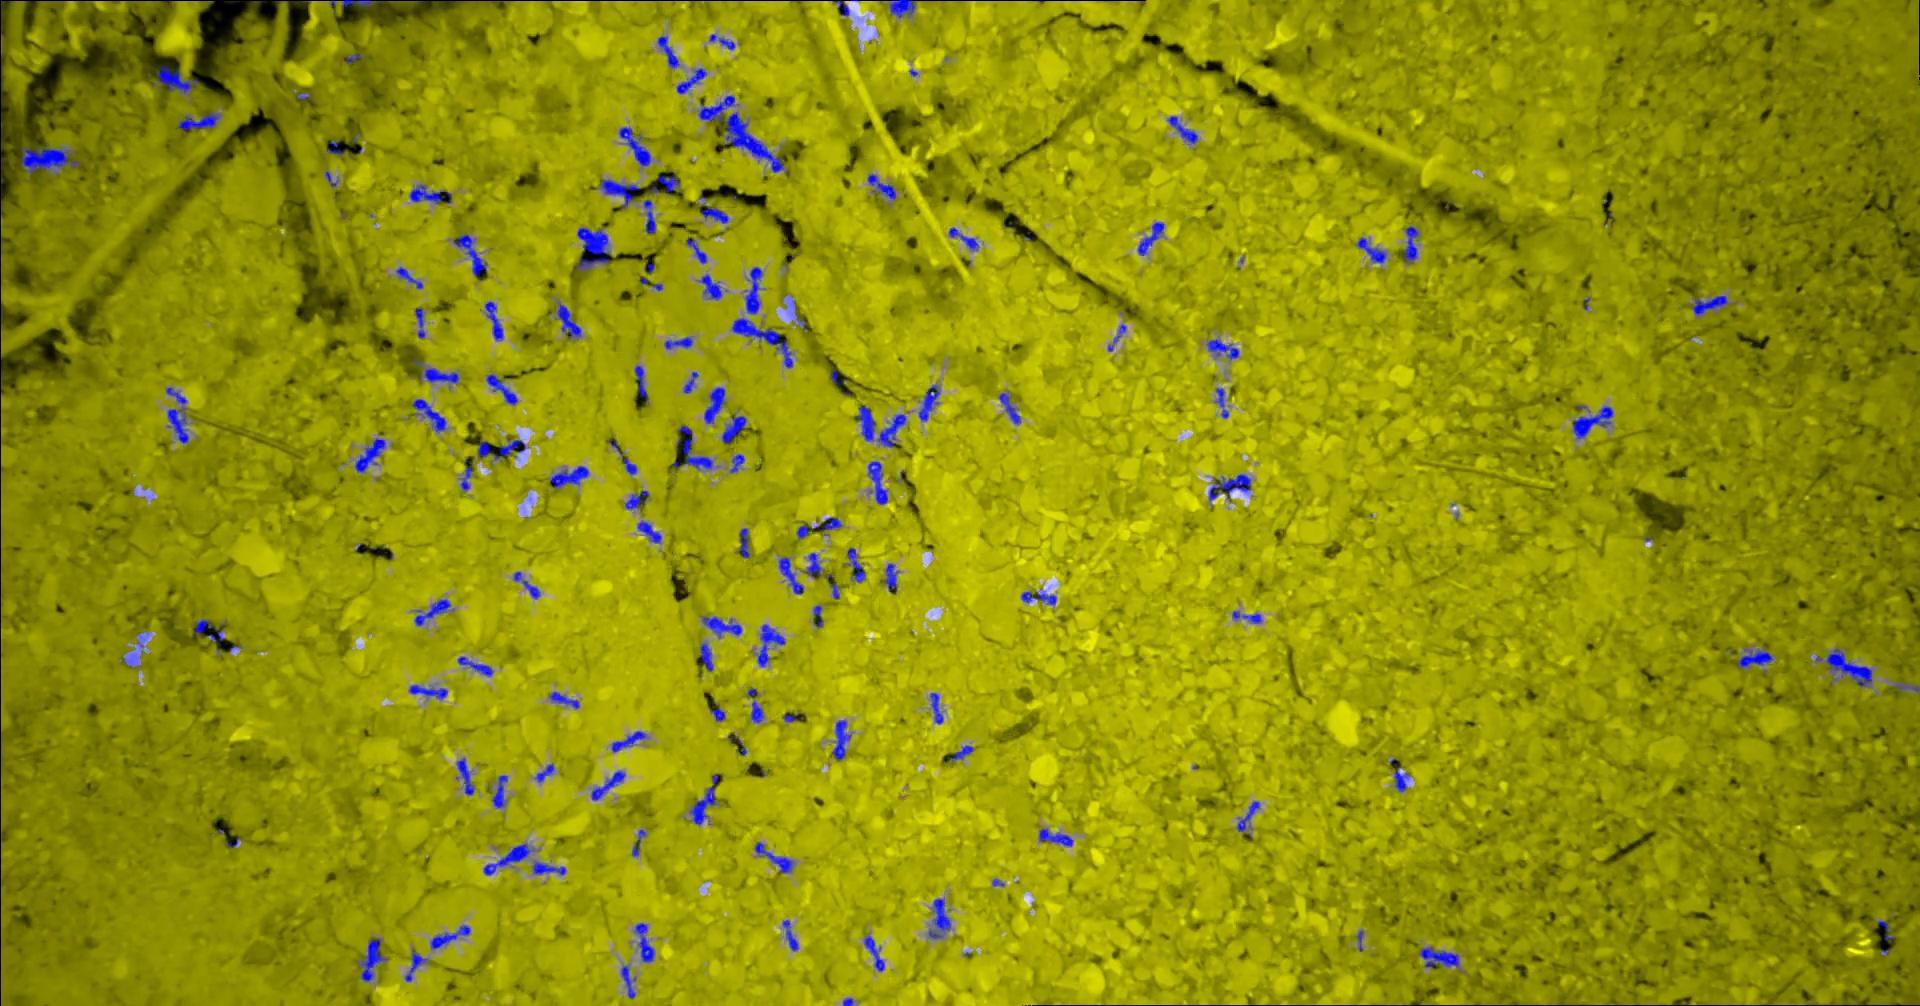ant: (731, 318, 792, 367), (857, 405, 905, 447), (1825, 648, 1870, 686), (672, 426, 712, 467), (483, 843, 533, 875), (20, 147, 79, 174), (452, 232, 486, 276), (690, 774, 717, 826), (577, 227, 610, 271), (1572, 406, 1611, 438), (165, 387, 188, 442), (155, 65, 199, 93), (599, 178, 640, 208), (618, 127, 650, 165), (1208, 473, 1250, 500), (757, 624, 785, 666), (754, 842, 792, 873), (361, 937, 386, 981), (411, 398, 444, 431), (354, 438, 385, 473), (590, 770, 625, 800), (608, 438, 636, 474), (477, 438, 524, 459), (486, 373, 517, 404), (414, 600, 450, 625), (430, 925, 470, 948), (1137, 222, 1163, 255), (867, 461, 888, 504), (556, 304, 582, 338), (744, 265, 762, 314), (778, 558, 803, 593), (1167, 116, 1197, 144), (549, 465, 588, 486), (702, 616, 742, 638), (928, 898, 950, 937), (1418, 946, 1459, 967), (830, 720, 851, 760), (634, 922, 654, 962), (177, 111, 218, 130), (409, 184, 451, 203), (484, 301, 503, 340), (918, 384, 938, 420), (703, 386, 724, 423), (867, 173, 895, 199), (676, 69, 706, 93), (657, 36, 679, 67), (404, 949, 427, 981), (863, 935, 884, 970), (1356, 238, 1385, 262), (457, 655, 491, 676), (611, 730, 645, 751), (1206, 338, 1238, 359), (998, 392, 1020, 424), (1691, 295, 1727, 314), (513, 572, 538, 598), (721, 415, 745, 443), (1389, 758, 1410, 791), (949, 227, 978, 250), (1236, 801, 1258, 831), (456, 757, 474, 794), (418, 367, 458, 382), (395, 265, 422, 288), (1037, 828, 1072, 846), (847, 547, 865, 580), (409, 683, 447, 699), (1021, 588, 1055, 605), (1737, 650, 1771, 667), (1403, 225, 1418, 262), (206, 622, 225, 652), (698, 274, 721, 298), (637, 520, 662, 542), (686, 238, 706, 263), (634, 365, 648, 401), (342, 0, 408, 8), (549, 691, 579, 708), (620, 965, 635, 998), (491, 775, 507, 807), (811, 517, 841, 533), (943, 746, 973, 762), (657, 173, 679, 193), (782, 920, 797, 950), (623, 490, 648, 509), (701, 207, 728, 224), (889, 0, 914, 17), (643, 199, 655, 232), (805, 553, 822, 578), (532, 861, 565, 874), (698, 641, 712, 671), (883, 563, 897, 591), (709, 34, 734, 50), (1215, 387, 1228, 418), (1230, 610, 1261, 622), (930, 692, 942, 723), (631, 829, 645, 856), (738, 528, 750, 558), (535, 762, 552, 782), (664, 337, 692, 349), (1877, 920, 1893, 940), (683, 371, 698, 392), (414, 307, 424, 338), (460, 466, 472, 490), (192, 619, 211, 634), (750, 700, 763, 721), (832, 0, 850, 15), (730, 453, 744, 473), (709, 704, 724, 720), (1895, 682, 1919, 692), (328, 138, 342, 155), (813, 605, 822, 627), (830, 370, 843, 385), (796, 525, 808, 539)
